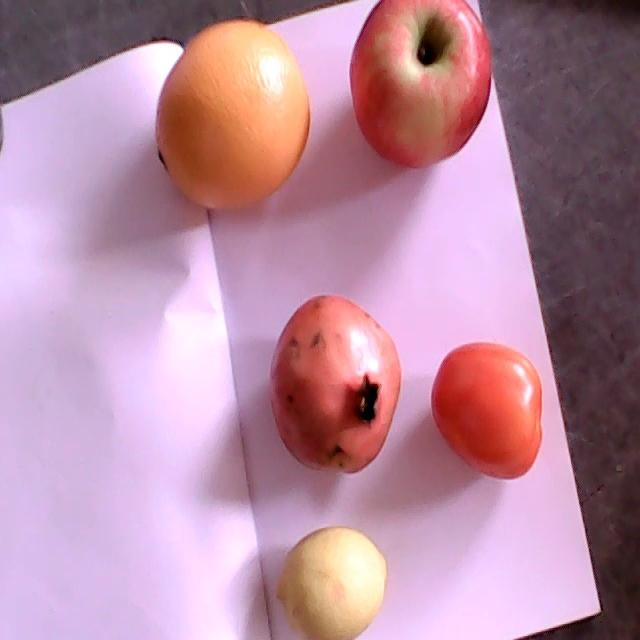apple: (350, 0, 492, 168)
lemon: (272, 526, 388, 639)
orange: (154, 19, 310, 208)
pomegranate: (268, 294, 402, 475)
tomato: (431, 342, 543, 480)
